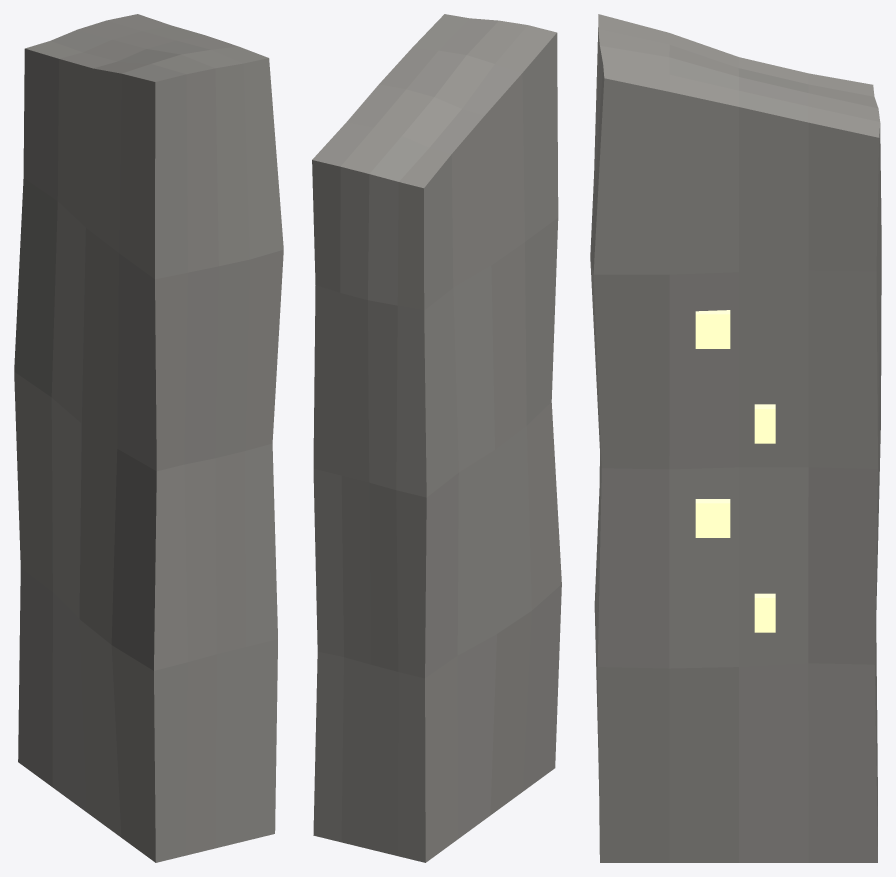
Rendered from SM_StandingStone.fbx.
3 views of the same model, side by side, from view 1: azimuth 30°, elevation 25°; view 2: azimuth 150°, elevation 25°; view 3: azimuth 270°, elevation 25° (orthographic). The views are drawn at different scales.
Parts seen in each view (by area): view 1: SM_StandingStone; view 2: SM_StandingStone; view 3: SM_StandingStone.
Part boxes in pixels (x1,y1,x2,y2): SM_StandingStone: [14, 14, 283, 862]; SM_StandingStone: [312, 14, 561, 862]; SM_StandingStone: [590, 14, 881, 862].
Bounding box in the file's own units: 0.9251 × 5.01 × 1.68.
